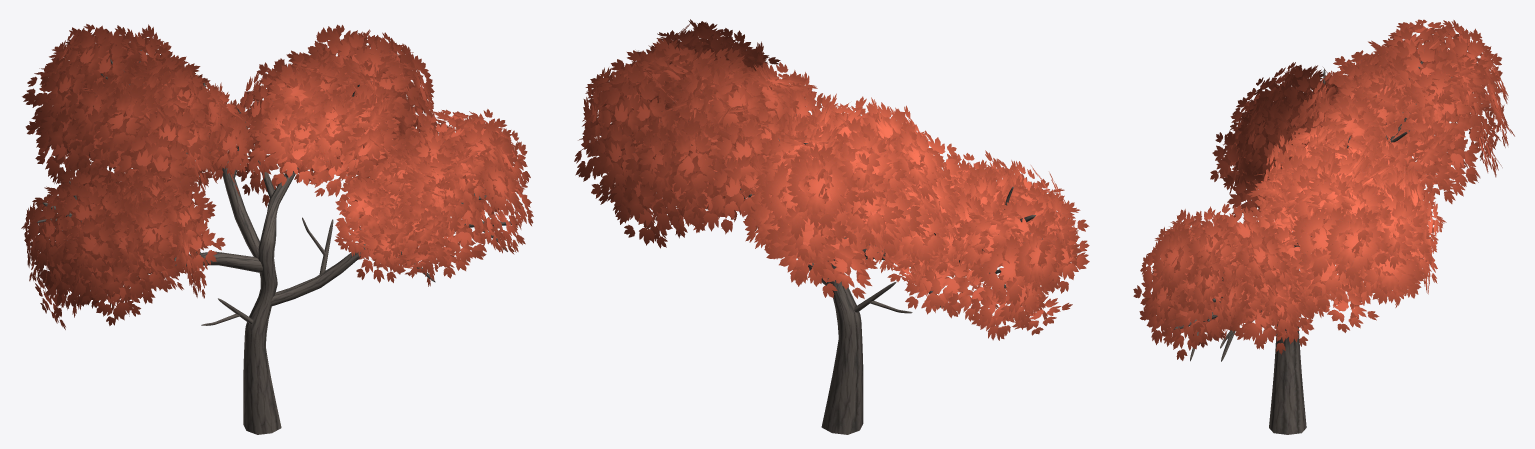
Rendered from q_maple_3.glb.
The picture shows the model from 3 angles, left to right: view 1: azimuth 30°, elevation 25°; view 2: azimuth 150°, elevation 25°; view 3: azimuth 270°, elevation 25°; orthographic projection. The views are drawn at different scales.
Visible parts, largest first — view 1: MapleTree_3; view 2: MapleTree_3; view 3: MapleTree_3.
Part boxes in pixels (x1=…): MapleTree_3: x1=21, y1=24, x2=533, y2=434; MapleTree_3: x1=574, y1=19, x2=1089, y2=434; MapleTree_3: x1=1133, y1=19, x2=1514, y2=434.
Bounding box in the file's own units: 14.14 × 11 × 10.41.
Materials: 2 (2 with a texture image).
